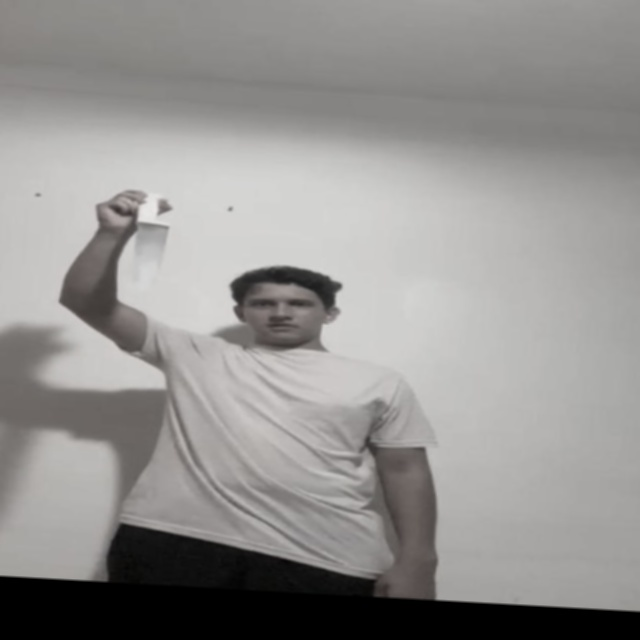Sharp-Object: (131, 220, 169, 291)
